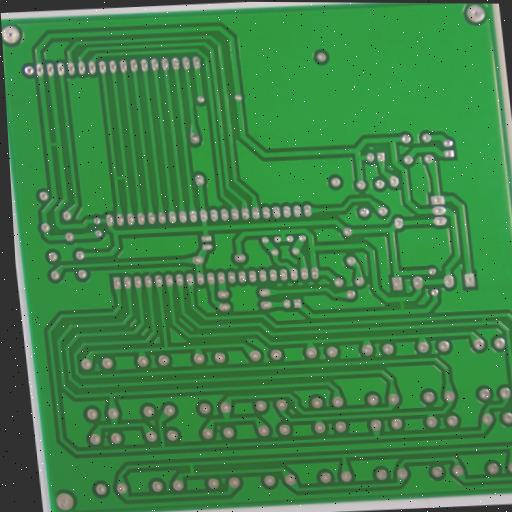short_circuit: (184, 459, 202, 478), (111, 172, 131, 185), (396, 294, 408, 315), (46, 140, 65, 152), (479, 311, 491, 327)
